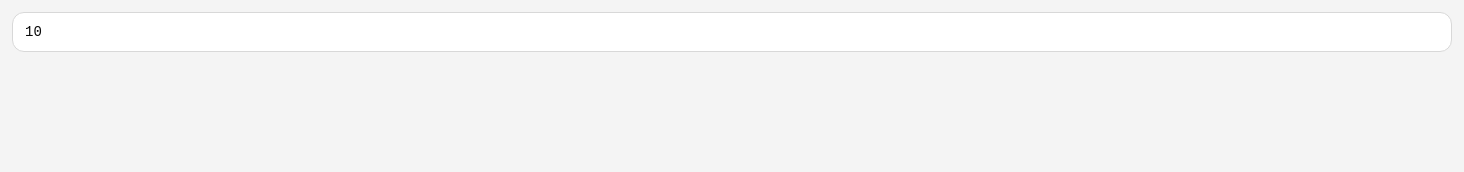
Test: Milestone 1 Stress Tests: Nothing UI & Shared Foundations › 1. NumberInput Adversarial & Edge Cases › handles scientific notation and NaN inputs safely
This screenshot has width=1464, height=172.
Replace the text in the number field with "1e2" at (732, 32), box [12,12,1452,52]
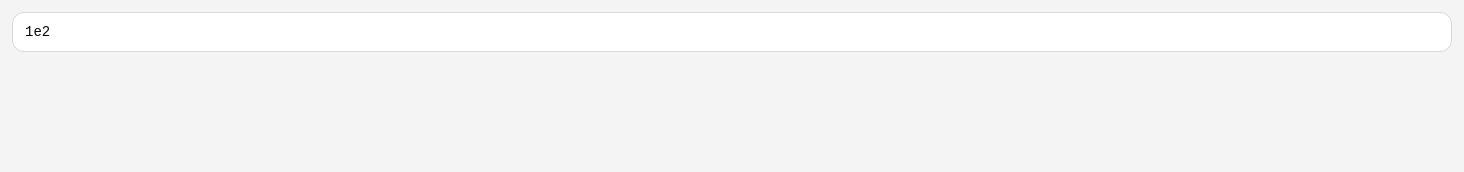
Replace the text in the number field with "not-a-number" at (732, 32), box [12,12,1452,52]
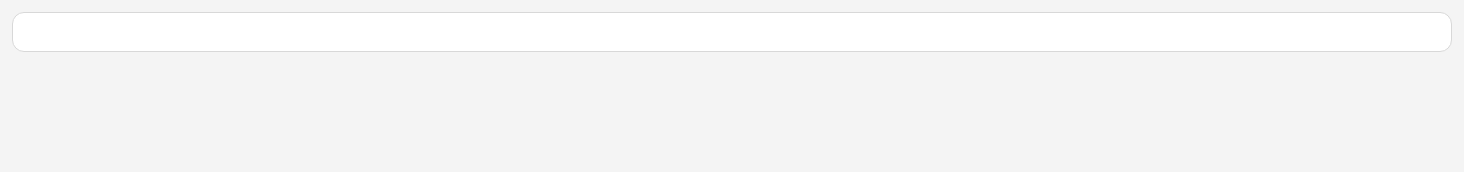
Leave the number field, box [12,12,1452,52]
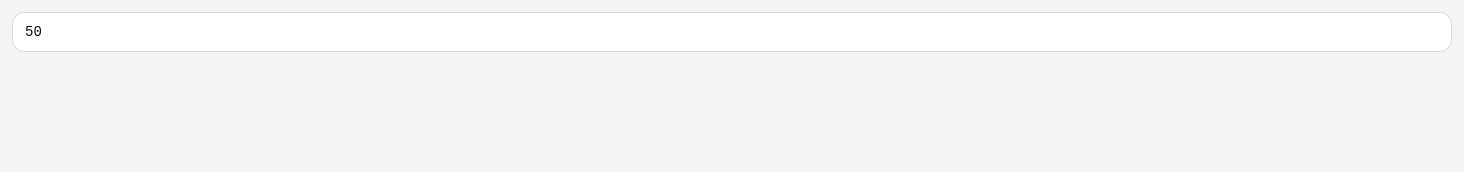
Expected: the number field holds "50", [12,12,1452,52]
